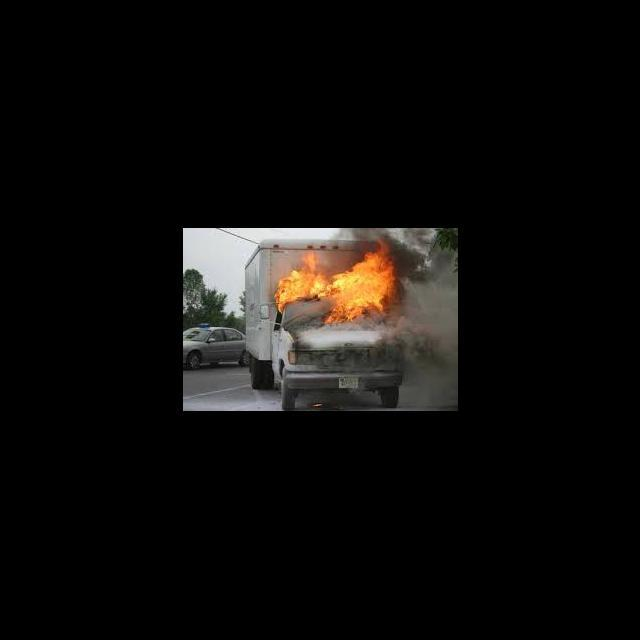Fire: (270, 247, 396, 326)
Smoke: (402, 246, 456, 401), (332, 228, 439, 244)
